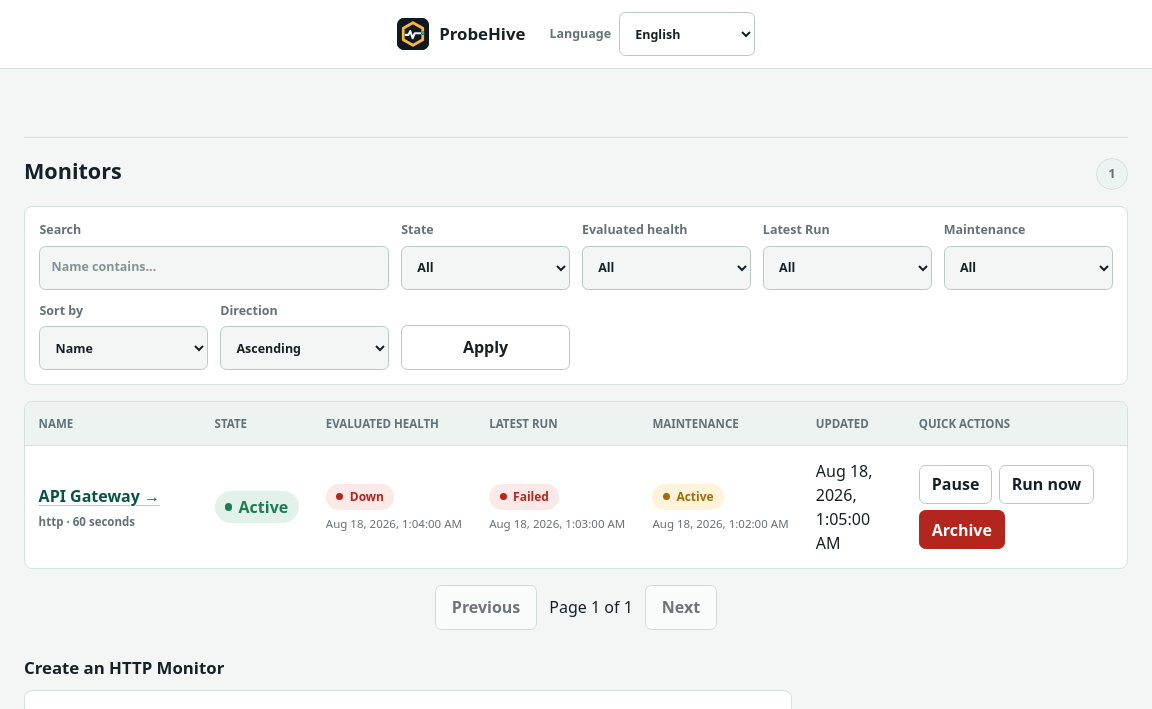
Test: pauses a Monitor from the inventory and refreshes the row
Click the button "Pause". click: (956,484)
box: [919,465,992,504]
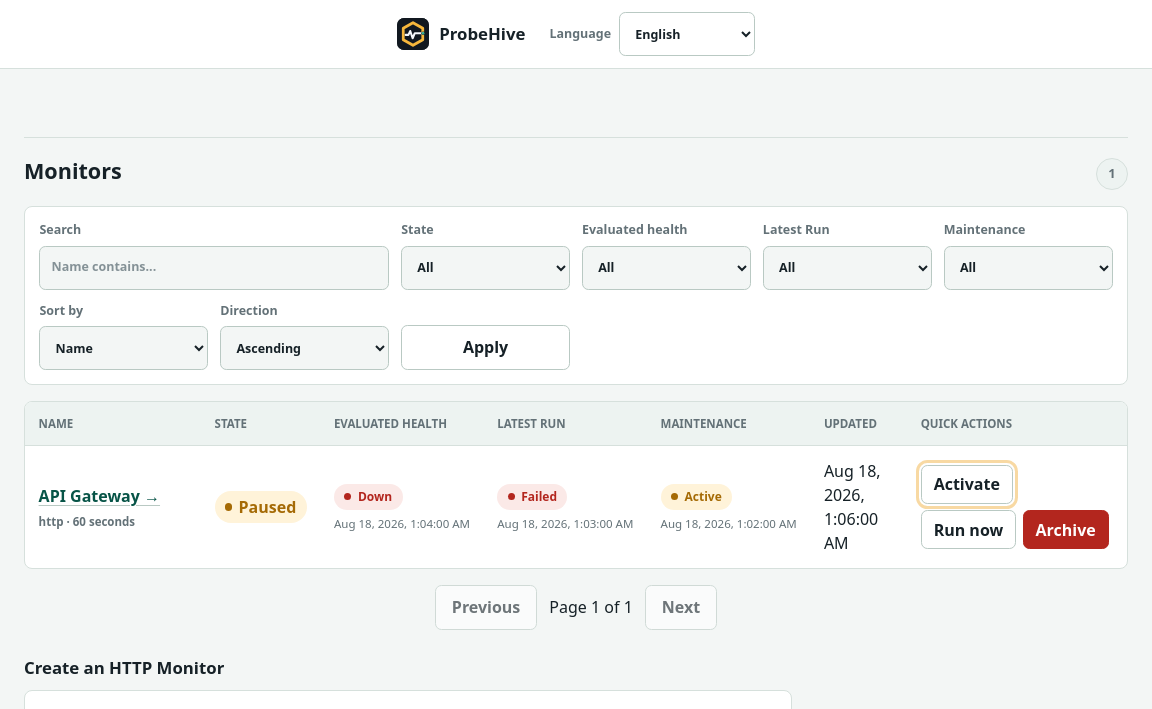
Expected: the button "Activate" is shown, [921,465,1013,504]
